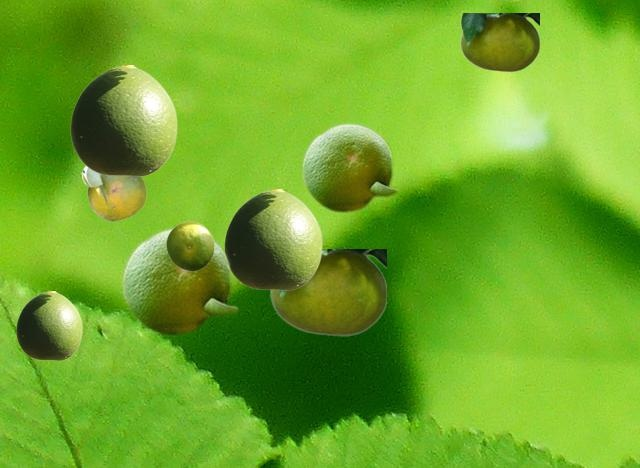dalandan: (120, 226, 239, 335), (70, 65, 176, 175), (270, 249, 385, 335), (224, 189, 321, 289), (300, 121, 399, 212), (460, 13, 538, 71), (16, 291, 81, 359), (81, 166, 145, 220), (166, 221, 213, 270)
